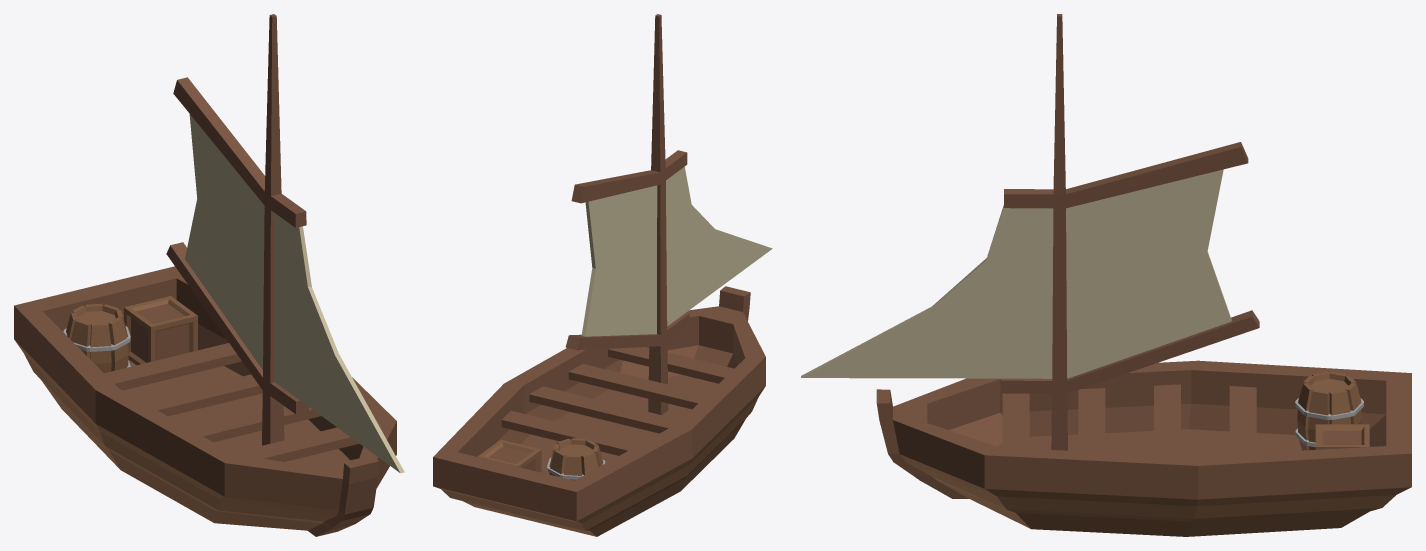
Rendered from wreck-sloop.glb.
3 views of the same model, side by side, from view 1: azimuth 30°, elevation 25°; view 2: azimuth 150°, elevation 25°; view 3: azimuth 270°, elevation 25° (orthographic). The views are drawn at different scales.
Parts seen in each view (by area): view 1: sail, stern, port, bow, starboard; view 2: sail, stern, port, starboard, bow; view 3: sail, stern, starboard, port, bow.
Part boxes in pixels (bbox=[...]): sail: bbox=[166, 14, 404, 473]; stern: bbox=[14, 266, 262, 468]; port: bbox=[95, 388, 359, 530]; bow: bbox=[219, 419, 396, 536]; starboard: bbox=[115, 354, 396, 460]; sail: bbox=[565, 14, 772, 415]; stern: bbox=[433, 383, 691, 536]; port: bbox=[530, 347, 765, 490]; starboard: bbox=[504, 345, 698, 434]; bow: bbox=[646, 286, 765, 366]; sail: bbox=[801, 14, 1259, 450]; stern: bbox=[1186, 360, 1411, 536]; starboard: bbox=[932, 384, 1198, 536]; port: bbox=[949, 360, 1197, 456]; bow: bbox=[876, 378, 1005, 508].
Size of the model in its own units: 2.85 by 6.05 by 7.
